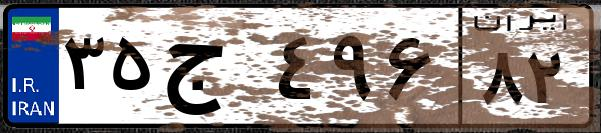2: (525, 38, 570, 115)
3: (57, 26, 110, 100)
4: (270, 28, 330, 110)
5: (110, 28, 158, 98)
6: (385, 28, 445, 110)
8: (475, 38, 525, 113)
9: (330, 28, 385, 110)
ج: (158, 20, 270, 120)
